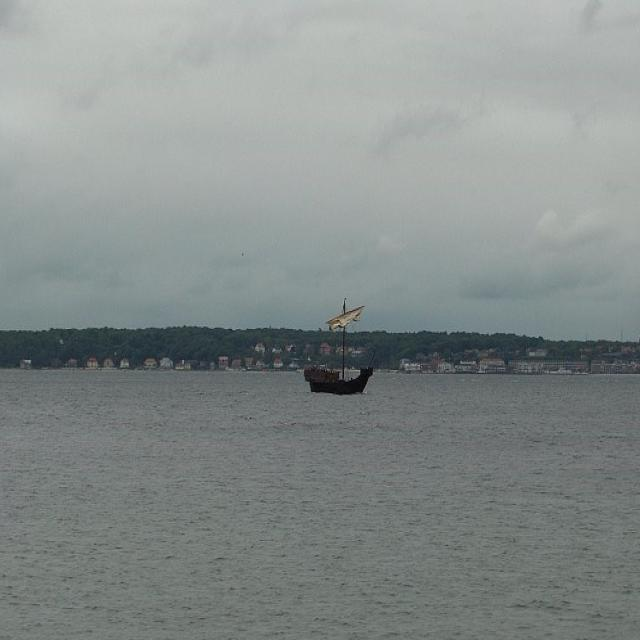fishing boat: (296, 298, 381, 398)
